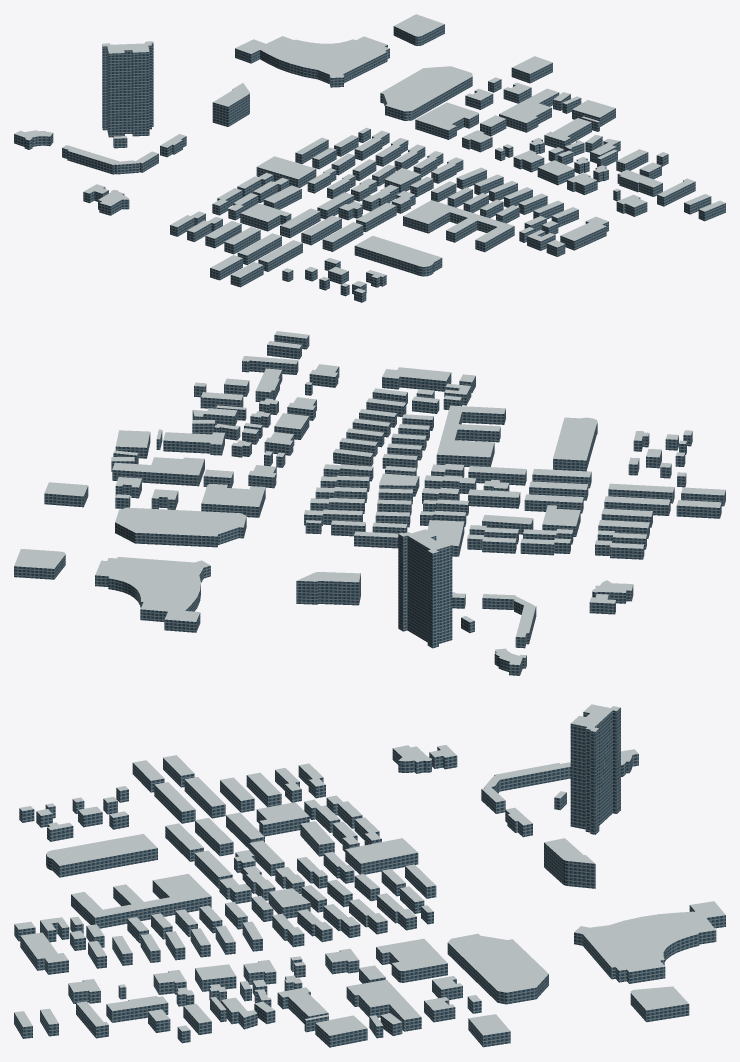
3 views of the same model, one above another, from view 1: azimuth 30°, elevation 25°; view 2: azimuth 150°, elevation 25°; view 3: azimuth 270°, elevation 25° (orthographic). The views are drawn at different scales.
Bounding box in the file's own units: 640 × 106 × 662.
Materials: 2 (1 with a texture image).
